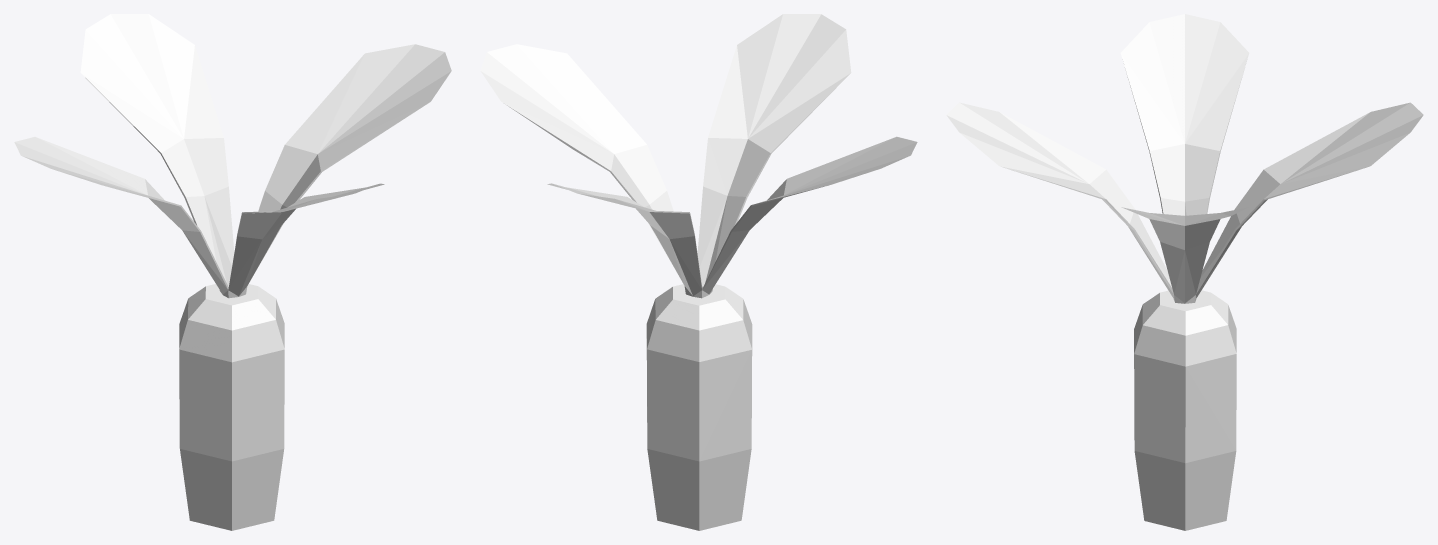
Rendered from Crop_Carrot_STAGE_3_01.glb.
3 views of the same model, side by side, from view 1: azimuth 30°, elevation 25°; view 2: azimuth 150°, elevation 25°; view 3: azimuth 270°, elevation 25° (orthographic). The views are drawn at different scales.
Visible parts, largest first — view 1: Crop_Carrot_STAGE_3_01; view 2: Crop_Carrot_STAGE_3_01; view 3: Crop_Carrot_STAGE_3_01.
Part boxes in pixels (box(x1,y1,x2,y2)): Crop_Carrot_STAGE_3_01: box(14, 14, 451, 530); Crop_Carrot_STAGE_3_01: box(480, 14, 917, 530); Crop_Carrot_STAGE_3_01: box(946, 14, 1423, 530).
Size of the model in its own units: 0.3828 by 0.3505 by 0.3828.
1 material, 1 textured.
